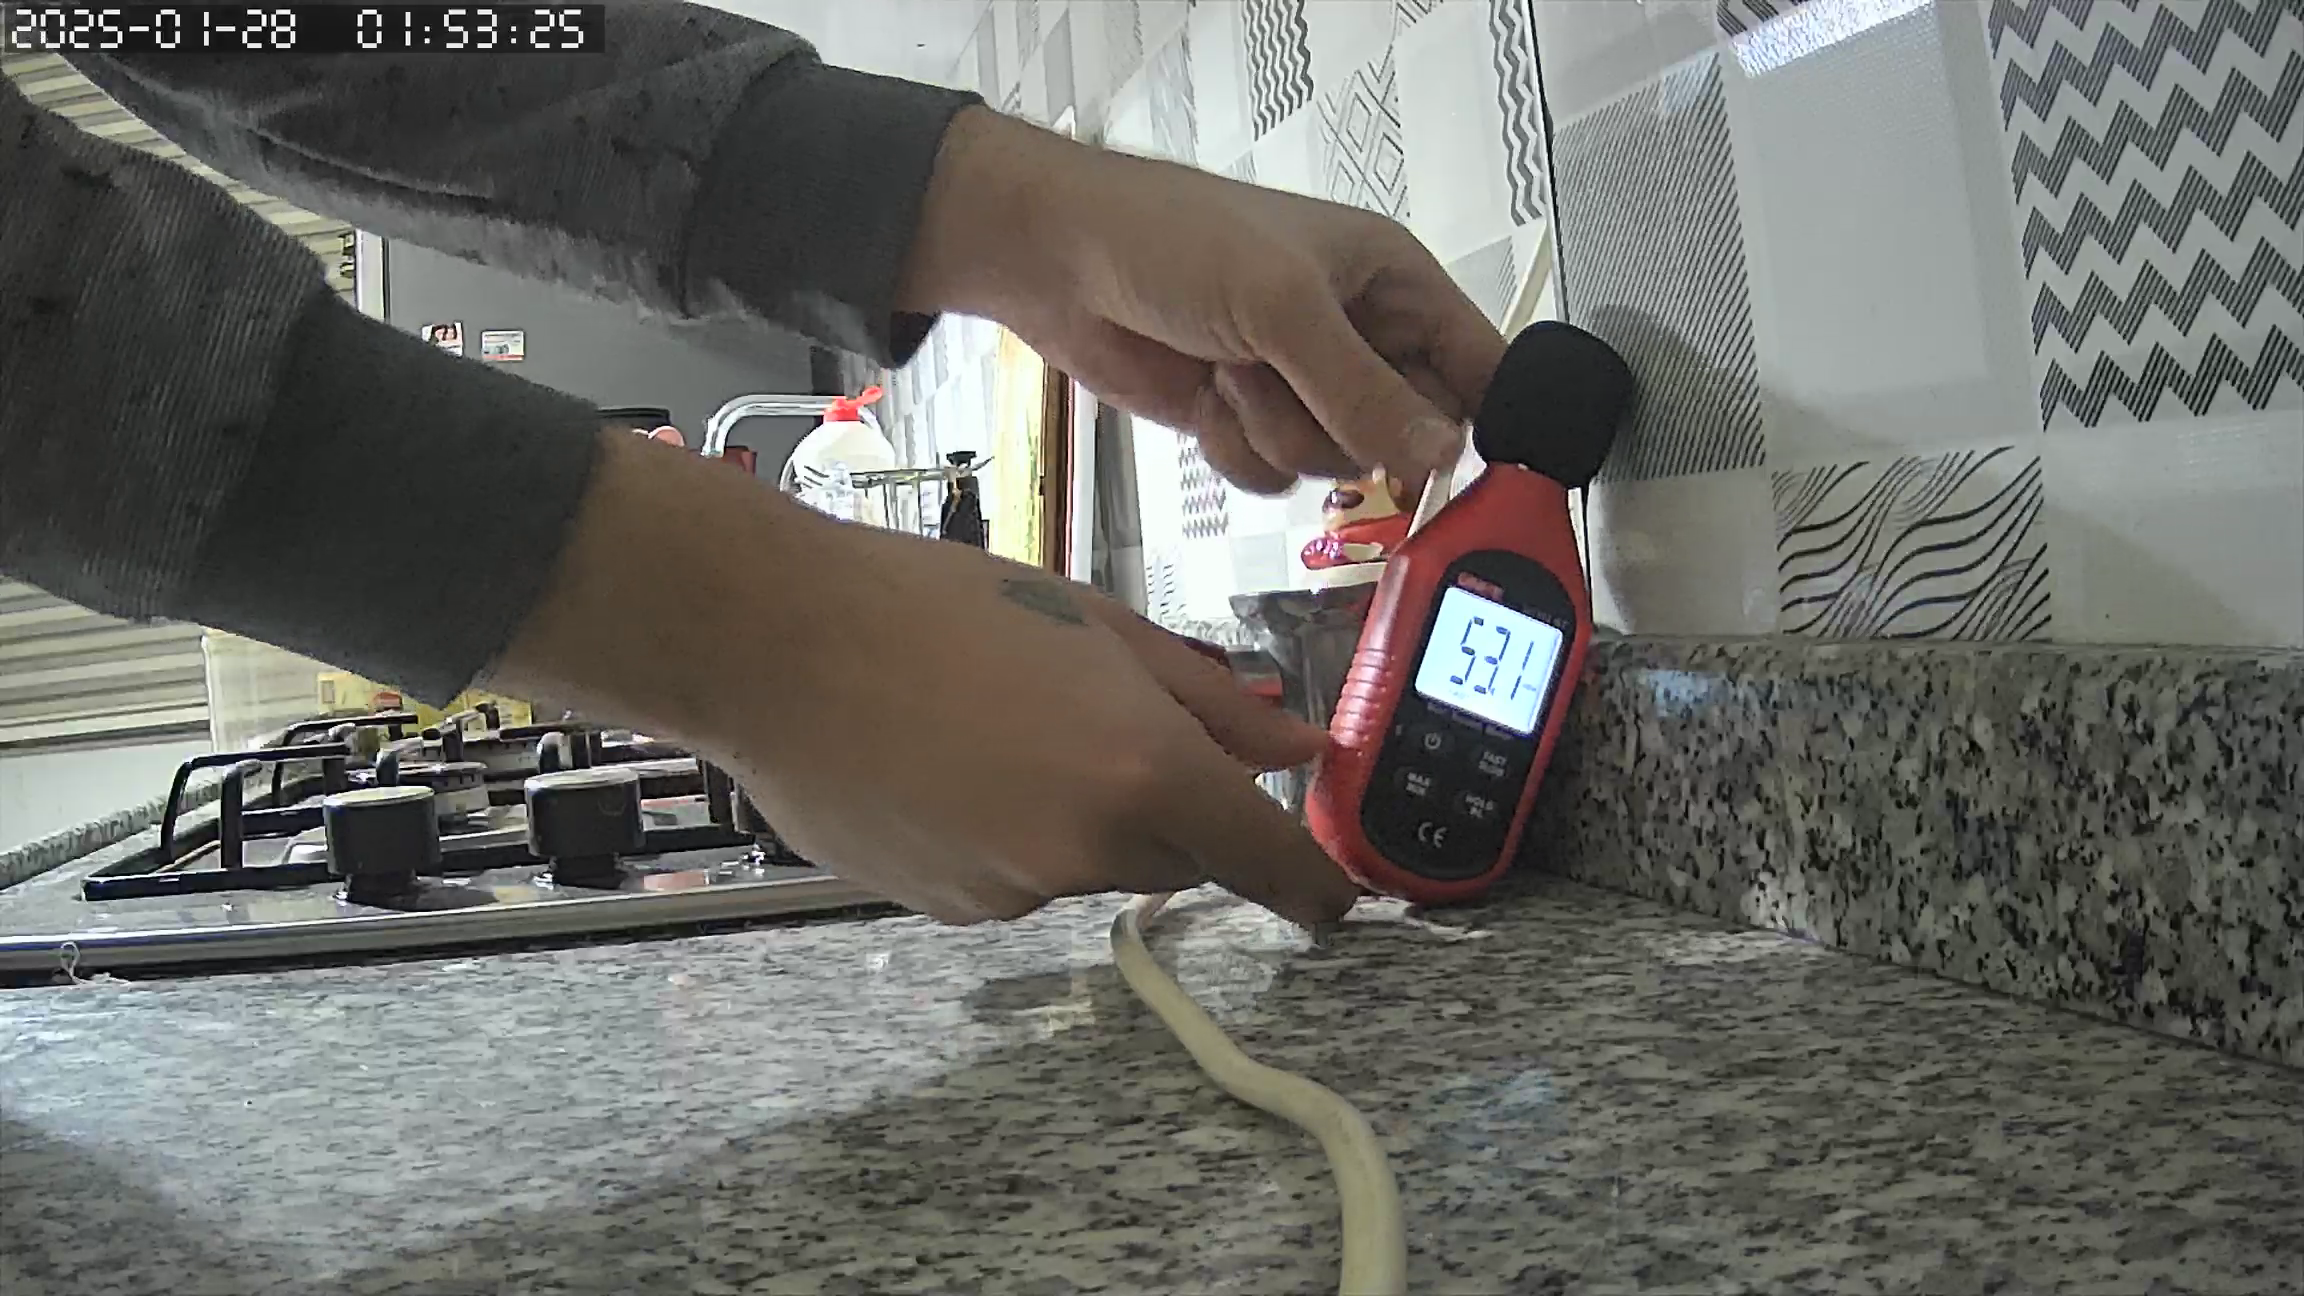screen: (1415, 585, 1563, 737)
